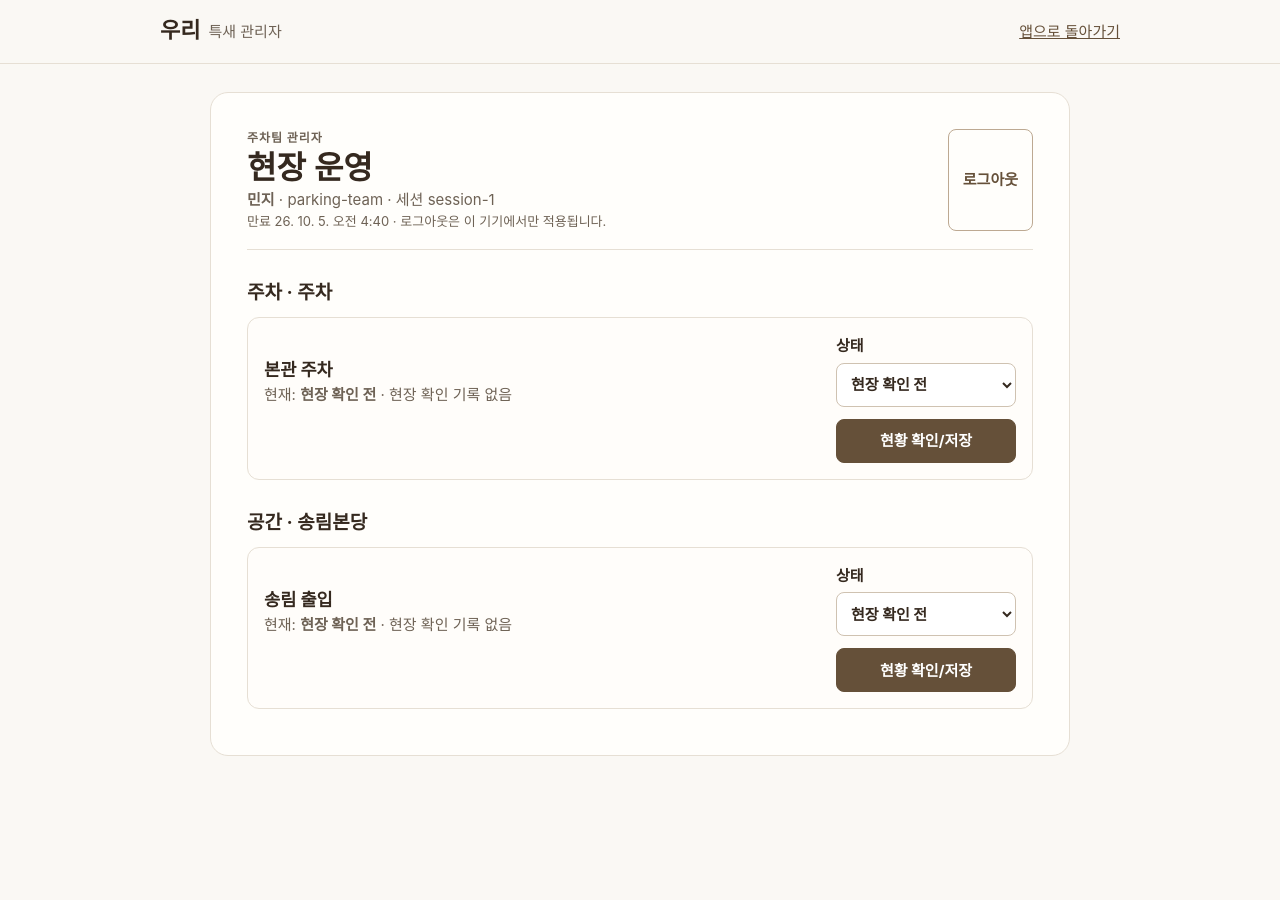
Test case: role-aware AdminApp › preserves a draft on forbidden responses and reports that it was not saved
Step 1. Select "혼잡" in the dropdown named "본관 주차 상태" → x=926, y=385, box [836,363,1016,407]
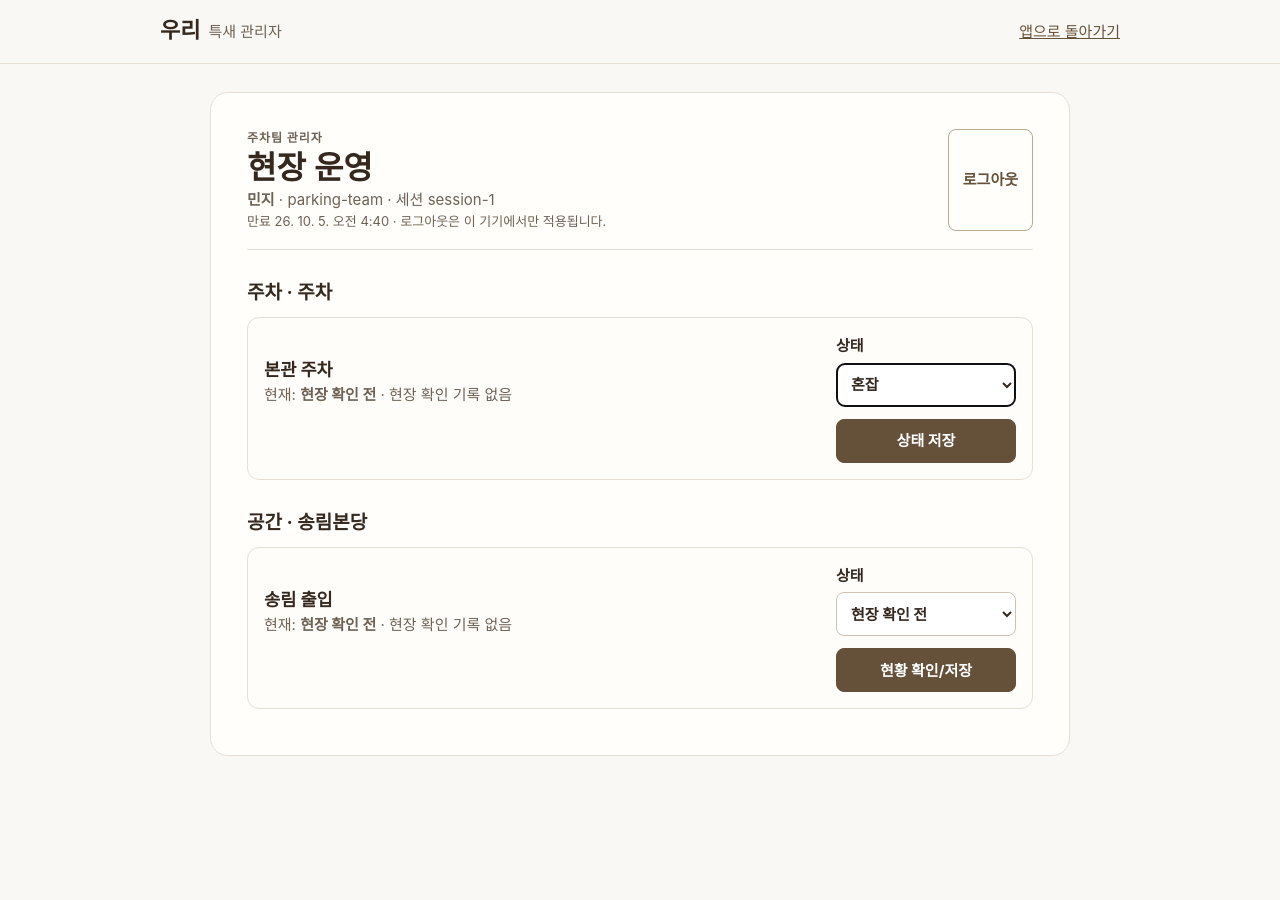
Step 2. Click the button "상태 저장" → x=926, y=441, box [836,419,1016,463]
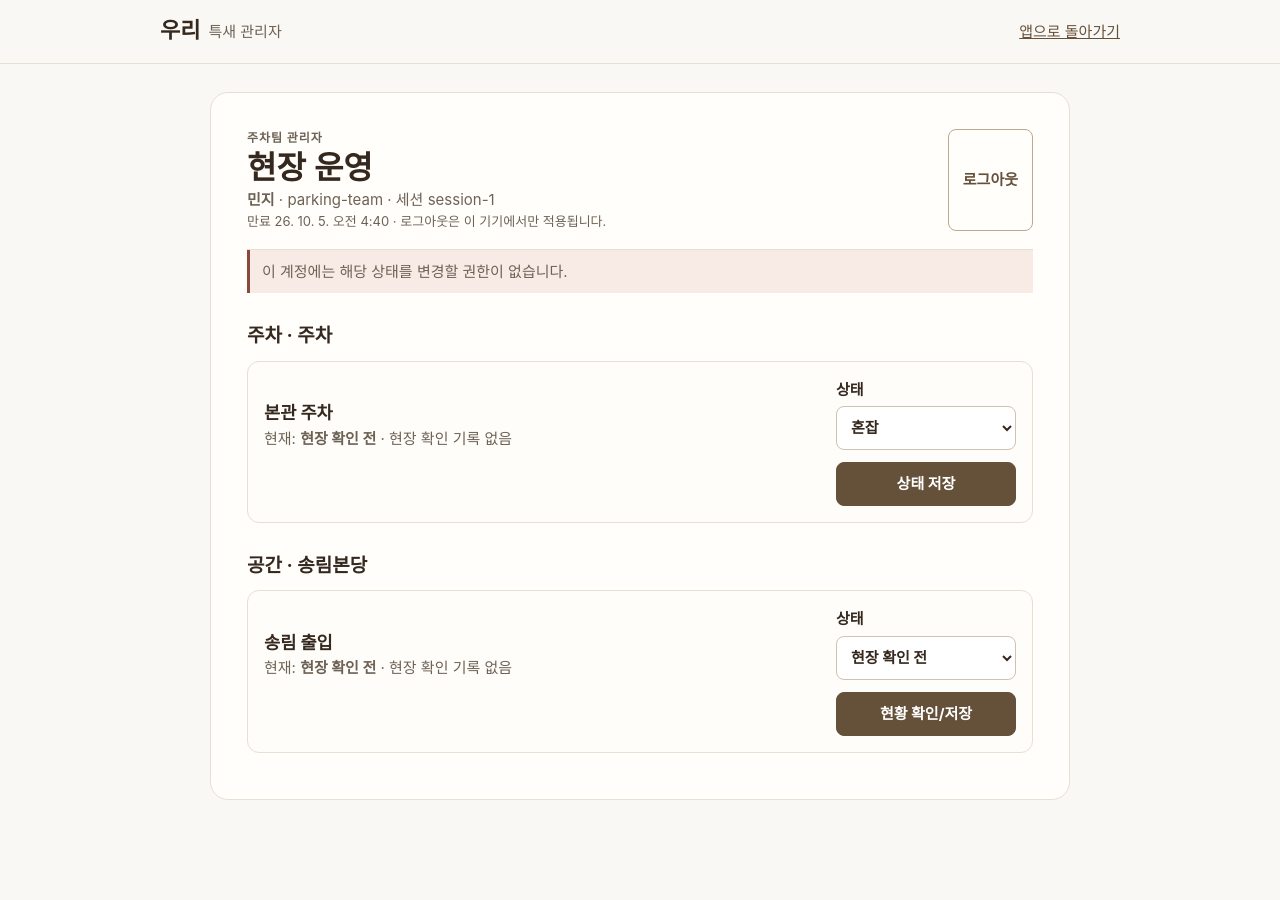
Expected: the message shows "권한", [247,250,1033,293]
